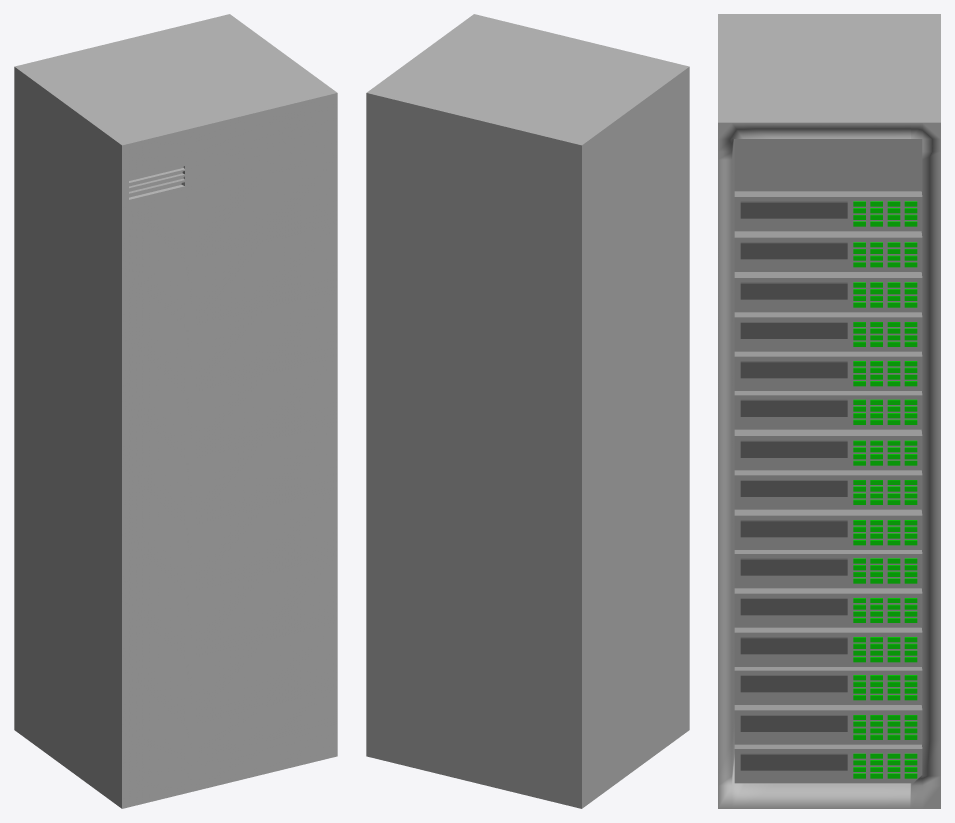
Rendered from dataServer.fbx.
The picture shows the model from 3 angles, left to right: view 1: azimuth 30°, elevation 25°; view 2: azimuth 150°, elevation 25°; view 3: azimuth 270°, elevation 25°; orthographic projection. The views are drawn at different scales.
Visible parts, largest first — view 1: pCube43; view 2: pCube43; view 3: pCube43, group14_pasted__pCube2, pCube26, pCube35, pCube25, pCube21, pCube28, pCube22, pCube27, pCube33, pCube30, pCube23 (+5 smaller).
Boxes of the visible parts, box(x1,y1,x2,y2) form: pCube43: box(14, 14, 337, 808); pCube43: box(366, 14, 689, 808); pCube43: box(718, 14, 940, 808); group14_pasted__pCube2: box(734, 139, 922, 191); pCube26: box(734, 429, 922, 470); pCube35: box(734, 231, 922, 271); pCube25: box(734, 191, 922, 231); pCube21: box(734, 272, 922, 312); pCube28: box(734, 509, 922, 549); pCube22: box(734, 312, 922, 351); pCube27: box(734, 470, 922, 509); pCube33: box(734, 705, 922, 744); pCube30: box(734, 588, 922, 627); pCube23: box(734, 351, 922, 390).
Size of the model in its own units: 20.4 by 60 by 17.66.
